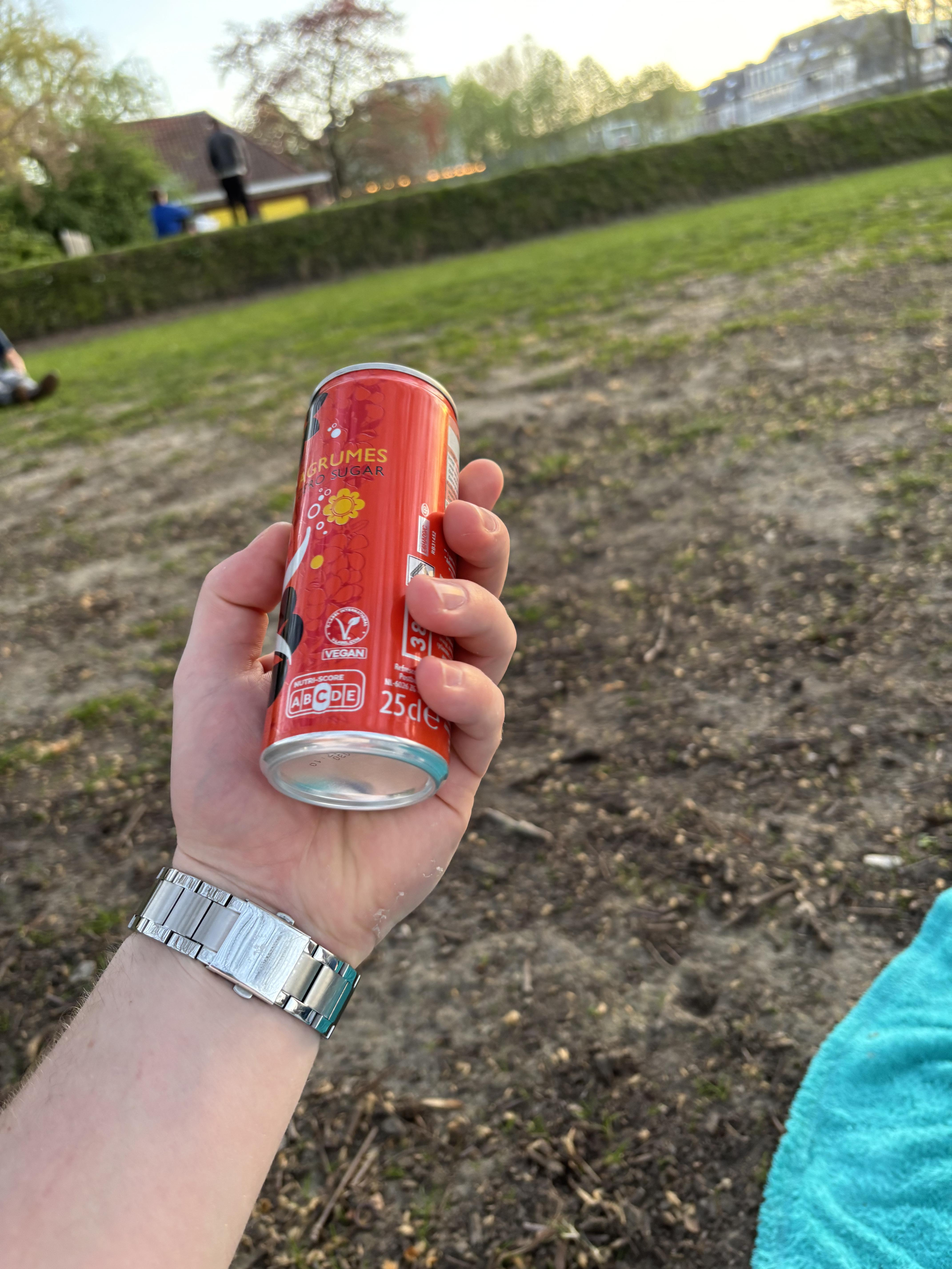Metal: (256, 355, 469, 814)
